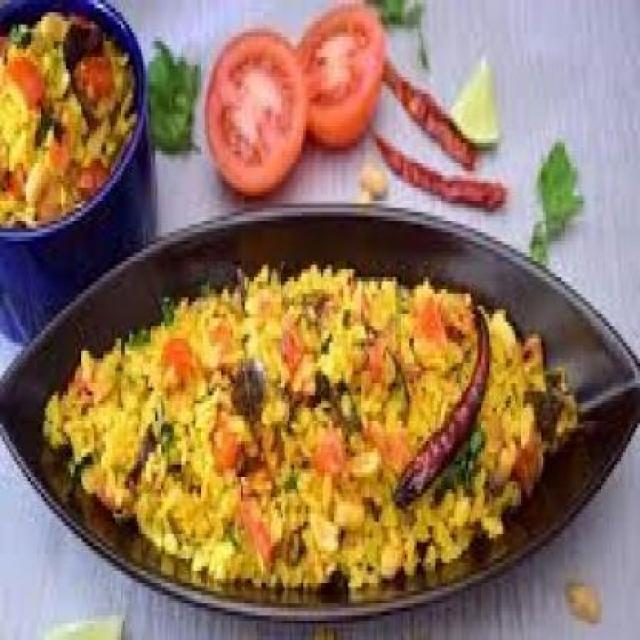poha: (43, 264, 577, 594), (0, 12, 137, 228)
